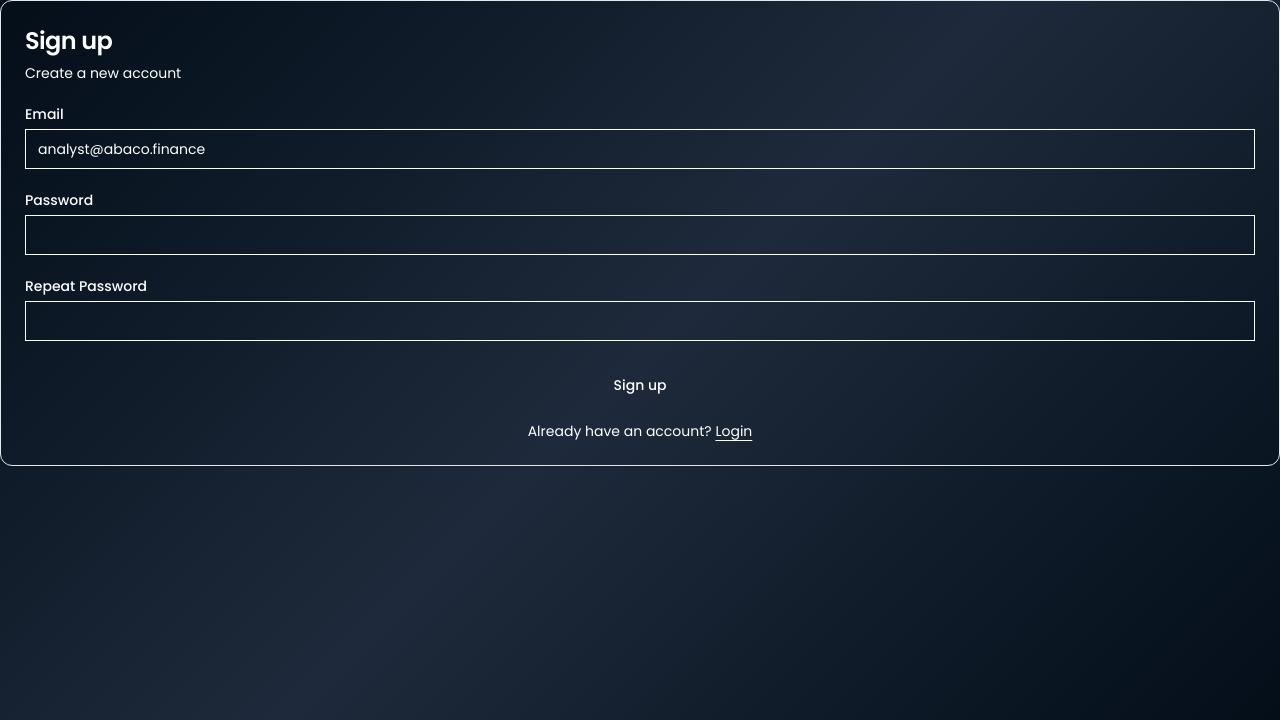
Test: SignUpForm Component › handles non-Error exceptions gracefully
The width and height of the screenshot is (1280, 720).
Type "newuser@abaco.finance" into the field labelled "Email".
click(640, 149); type("newuser@abaco.finance")  # box 25,129 -> 1255,169
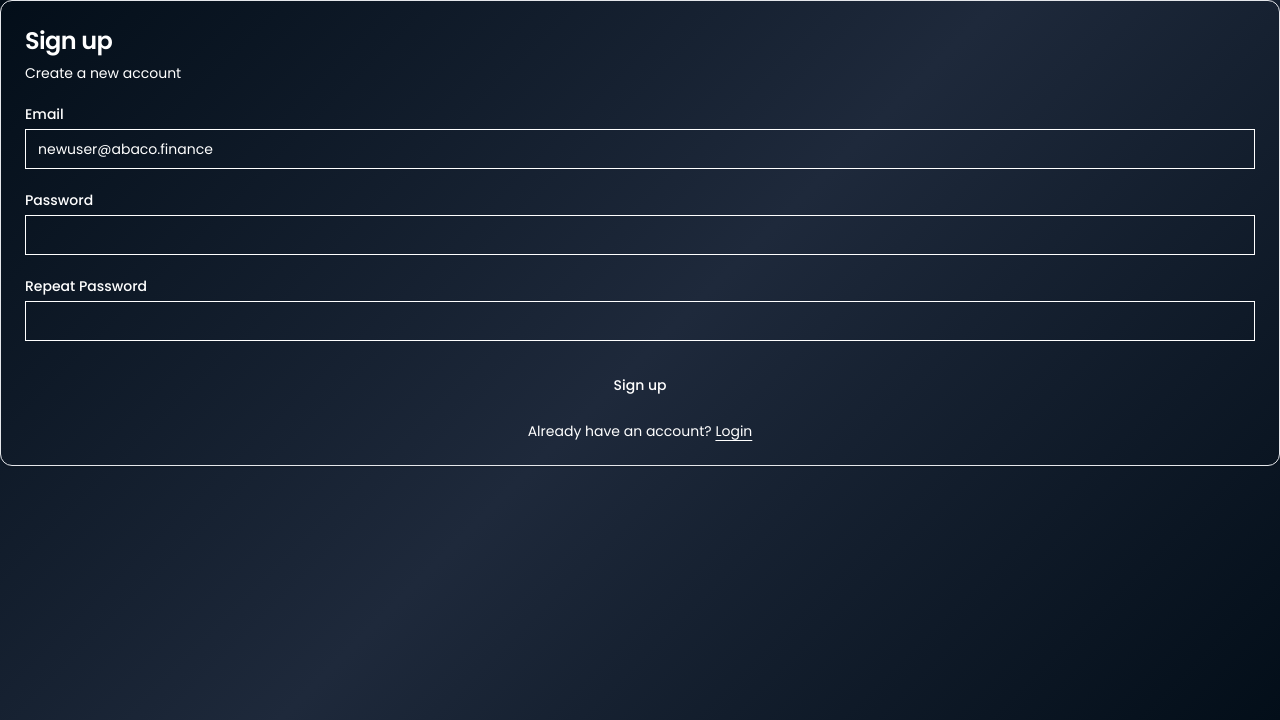
Type "SecurePassword123!" into the password field labelled "Password".
click(640, 235); type("SecurePassword123!")  # box 25,215 -> 1255,255
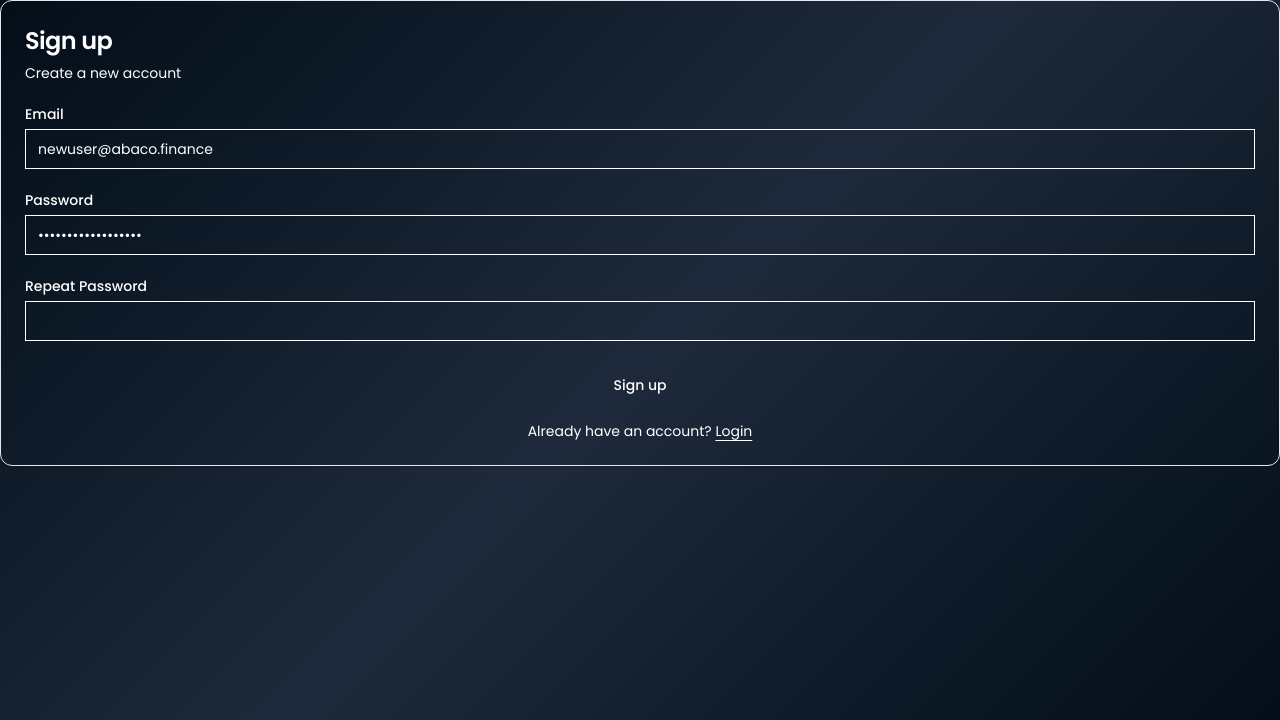
Type "SecurePassword123!" into the password field labelled "Repeat Password".
click(640, 321); type("SecurePassword123!")  # box 25,301 -> 1255,341
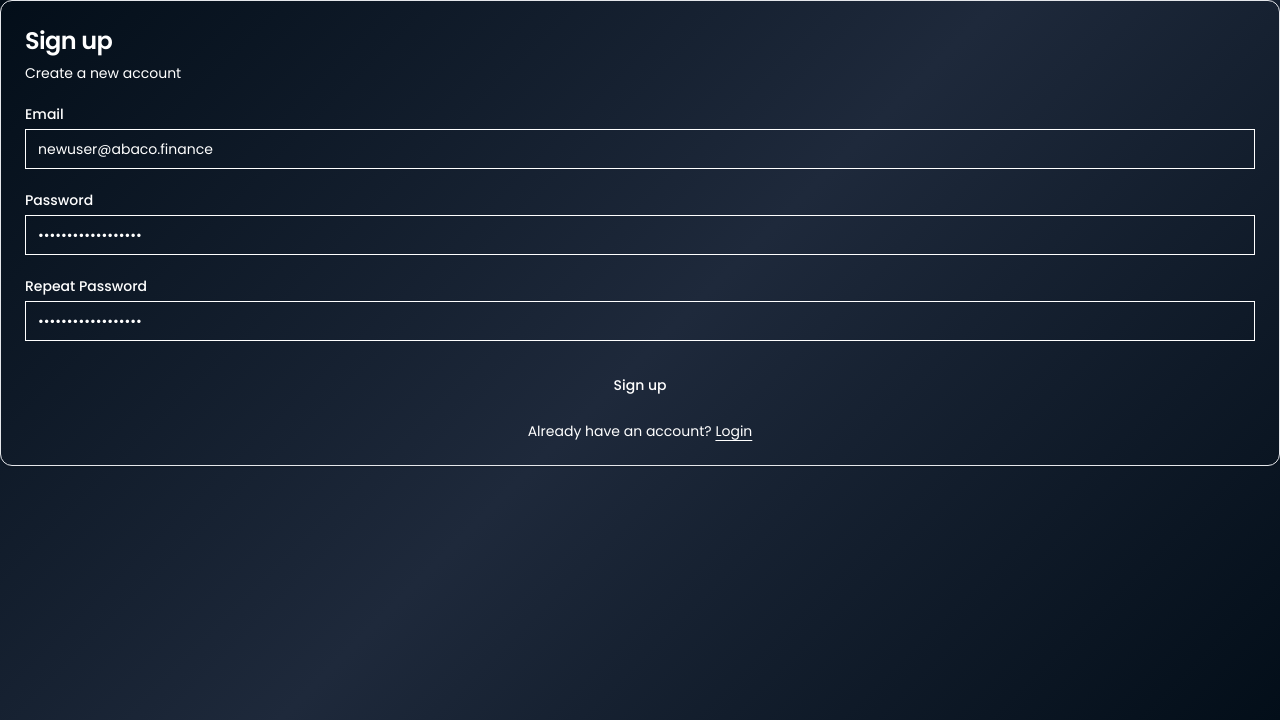
Click the button "Sign up".
click(640, 385)  # box 25,365 -> 1255,405
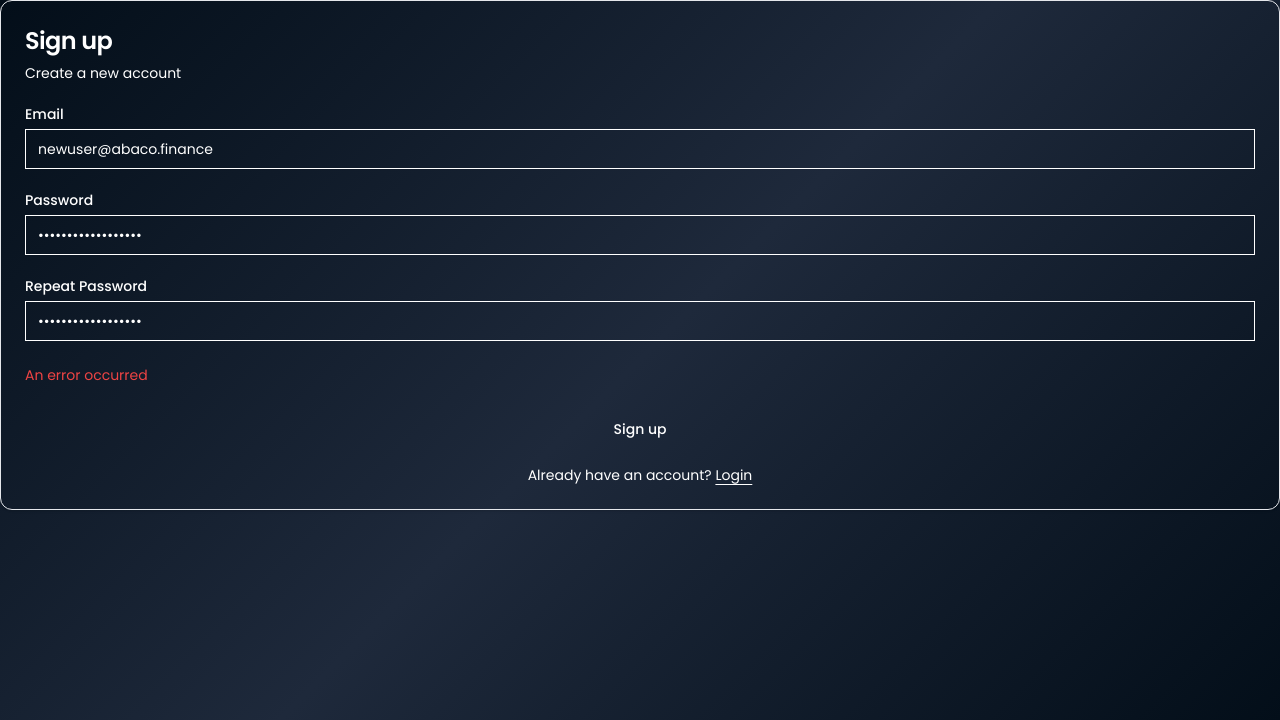
Expected: the text "An error occurred" is shown, 25,365 -> 148,385
